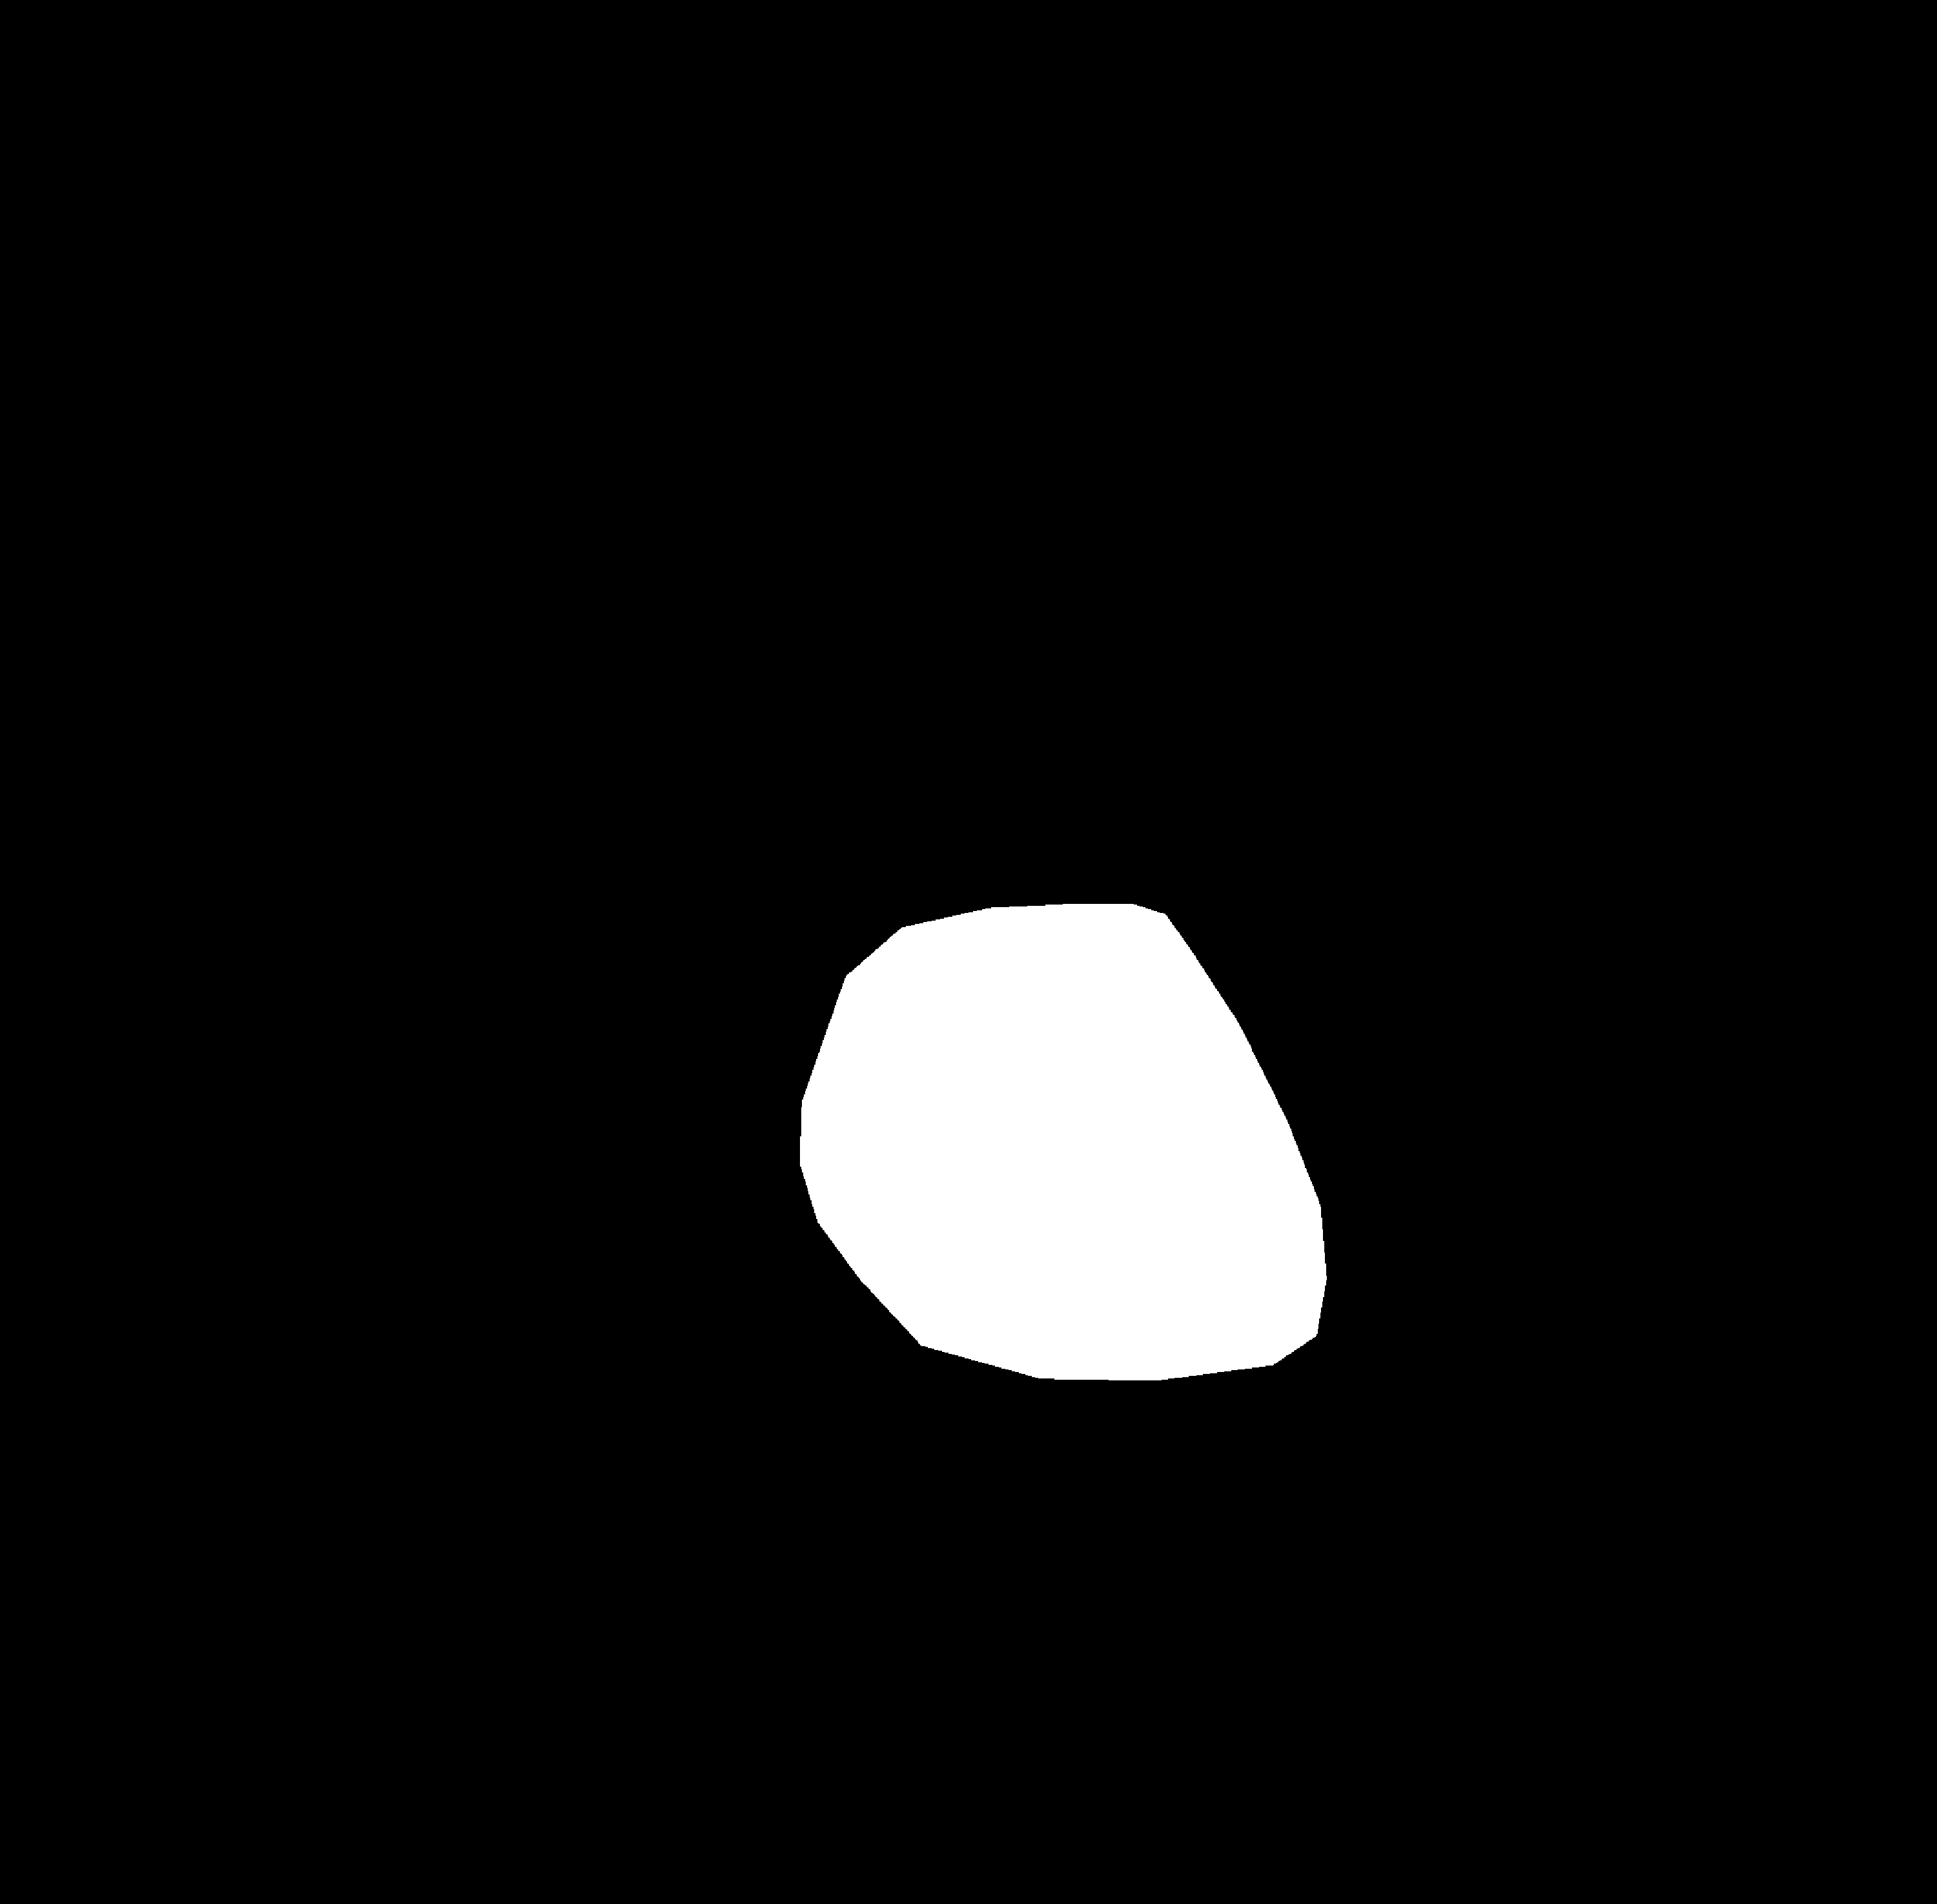heart: (807, 1018, 1330, 1395)
left_lung: (377, 260, 929, 1494)
right_lung: (1055, 312, 1519, 1566)
